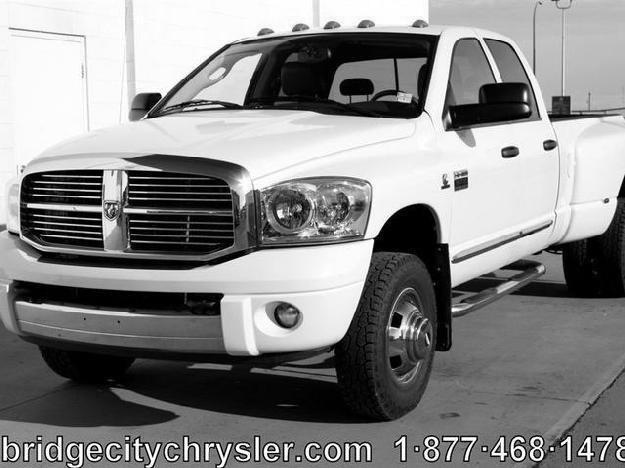car: (1, 16, 625, 418)
